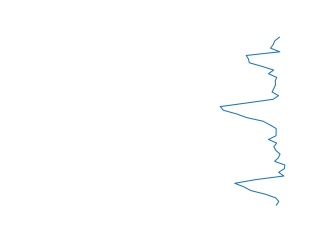underwaterNaturalLevee: (216, 36, 290, 210)
